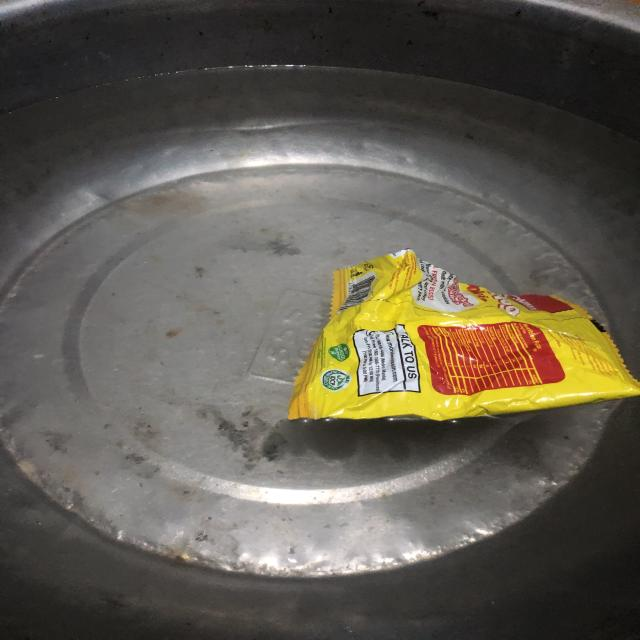Plastic Wrapper: (275, 249, 640, 458)
